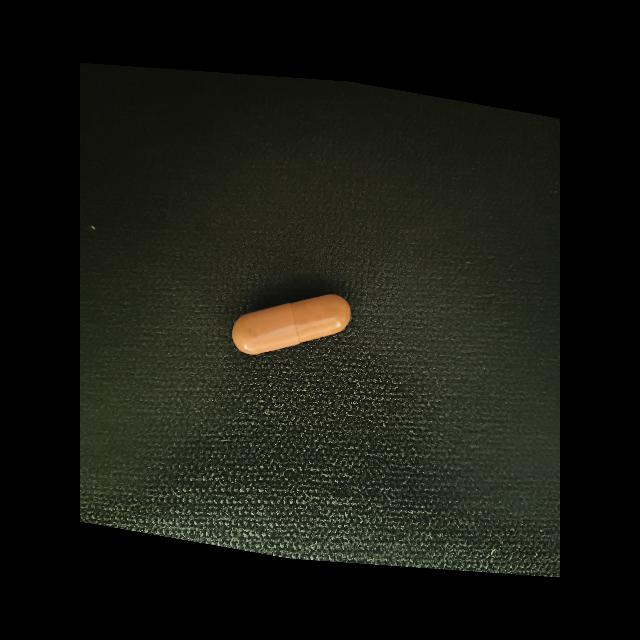Intact Capsule: (232, 294, 351, 355)
